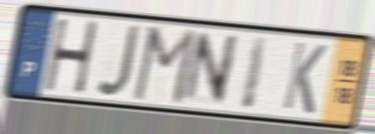H: (42, 17, 101, 96)
I: (238, 33, 271, 112)
J: (94, 23, 144, 100)
K: (280, 39, 329, 118)
M: (129, 24, 200, 108)
N: (179, 31, 242, 108)
